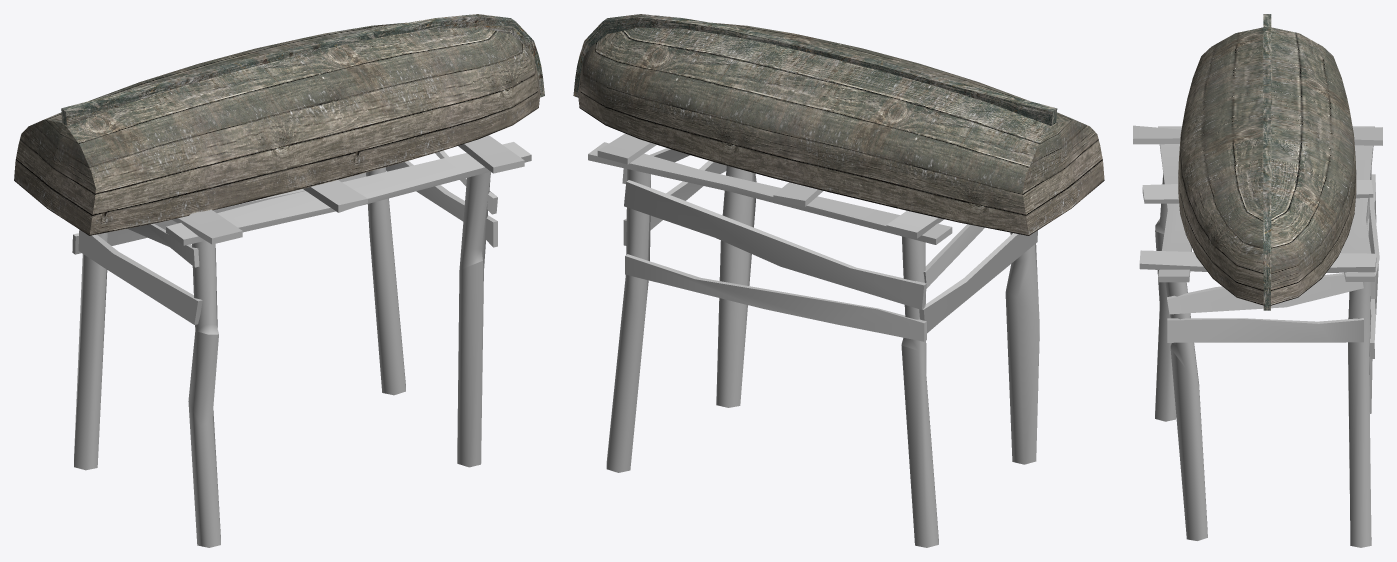
File: Boat2.fbx
3 renders of one model, left to right at view 1: azimuth 30°, elevation 25°; view 2: azimuth 150°, elevation 25°; view 3: azimuth 270°, elevation 25°, orthographic. The views are drawn at different scales.
Visible parts, largest first — view 1: polySurface1119; view 2: polySurface1119; view 3: polySurface1119.
Part boxes in pixels (bbox=[...]): polySurface1119: bbox=[14, 14, 544, 547]; polySurface1119: bbox=[573, 14, 1104, 547]; polySurface1119: bbox=[1133, 14, 1382, 547].
Size of the model in its own units: 5.41 by 4.34 by 2.67.
